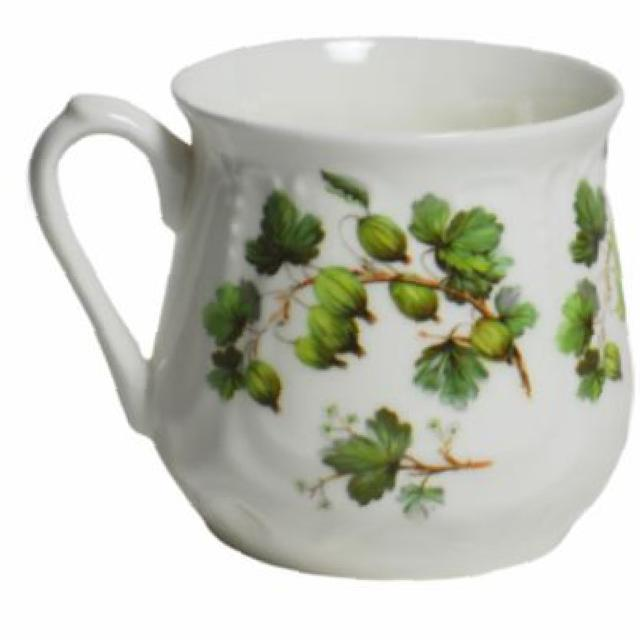cup: (19, 22, 640, 586)
